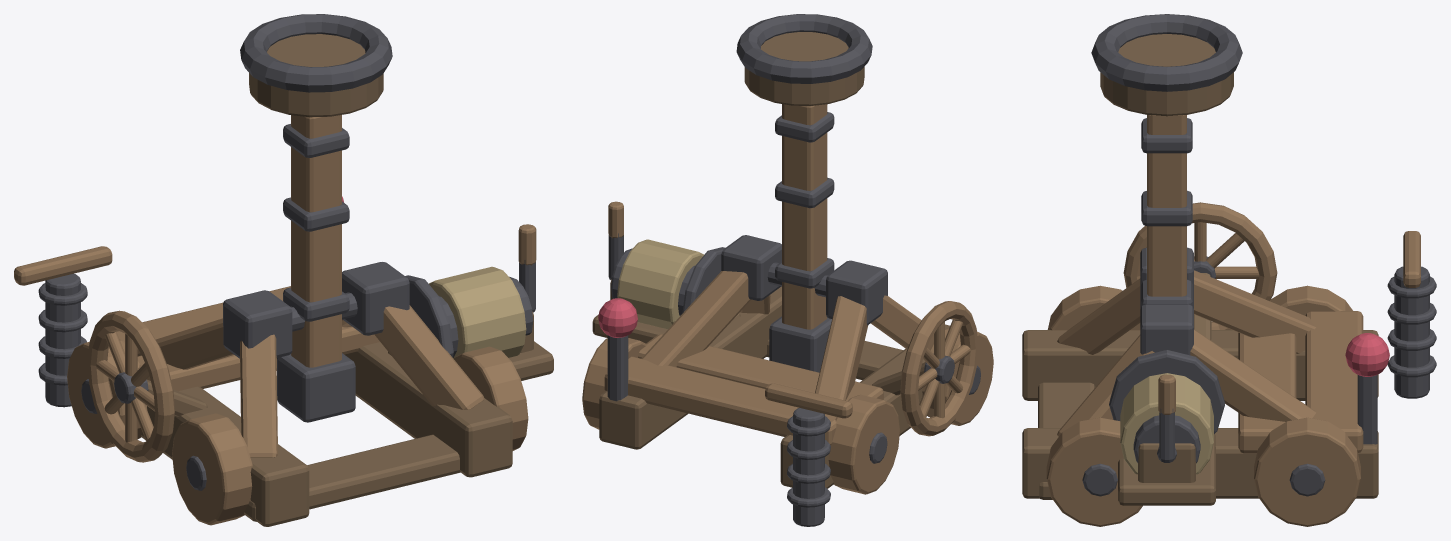
Rendered from catapult.glb.
3 views of the same model, side by side, from view 1: azimuth 30°, elevation 25°; view 2: azimuth 150°, elevation 25°; view 3: azimuth 270°, elevation 25° (orthographic). The views are drawn at different scales.
Visible parts, largest first — view 1: arm_beam, rail_R, scoop_rim, plank_rear, wheel_L1, tw_rim, wd_rope, arm_scoop, aleg_rear_R, rail_L, arm_counterweight, aleg_rear_L (+19 smaller); view 2: arm_beam, plank_front, scoop_rim, rail_R, wheel_L0, tw_rim, wd_rope, aleg_front_R, arm_scoop, plank_mid, aleg_front_L, apex_band_L (+24 smaller); view 3: wheel_R0, scoop_rim, wheel_R1, plank_front, arm_beam, rail_L, arm_scoop, rail_R, aleg_front_L, aleg_front_R, wd_rope, plank_mid (+30 smaller).
Boxes of the visible parts, box(x1,y1,x2,y2) form: arm_beam: box(291, 115, 341, 367); rail_R: box(344, 342, 512, 477); scoop_rim: box(240, 14, 392, 92); plank_rear: box(244, 434, 460, 521); wheel_L1: box(172, 413, 252, 525); tw_rim: box(87, 310, 174, 462); wd_rope: box(429, 266, 526, 358); arm_scoop: box(249, 34, 383, 117); aleg_rear_R: box(374, 305, 484, 409); rail_L: box(141, 386, 309, 526); arm_counterweight: box(277, 353, 355, 422); aleg_rear_L: box(240, 334, 277, 457); arm_beam: box(782, 104, 827, 329); plank_front: box(604, 356, 836, 445); scoop_rim: box(736, 14, 872, 83); rail_R: box(599, 286, 781, 449); wheel_L0: box(828, 394, 899, 494); tw_rim: box(900, 301, 978, 436); wd_rope: box(617, 239, 704, 329); aleg_front_R: box(641, 271, 751, 367); arm_scoop: box(744, 32, 864, 105); plank_mid: box(638, 334, 883, 400); aleg_front_L: box(815, 296, 868, 400); apex_band_L: box(826, 260, 887, 325); wheel_R0: box(1254, 417, 1360, 526); scoop_rim: box(1091, 14, 1242, 91); wheel_R1: box(1046, 417, 1142, 526); plank_front: box(1305, 311, 1363, 452); arm_beam: box(1147, 115, 1186, 296); rail_L: box(1022, 330, 1378, 400); arm_scoop: box(1100, 34, 1233, 116); rail_R: box(1022, 428, 1378, 498); aleg_front_L: box(1194, 270, 1316, 353); aleg_front_R: box(1190, 329, 1316, 421); wd_rope: box(1120, 373, 1213, 474); plank_mid: box(1238, 332, 1296, 453).
Bounding box in the file's own units: 2.03 × 2.05 × 1.86.
